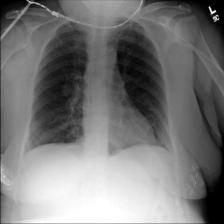normal: (22, 15, 175, 157)
